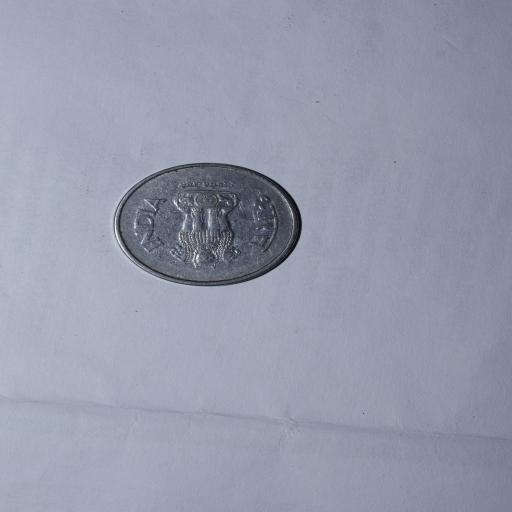rupee1: (112, 161, 306, 288)
